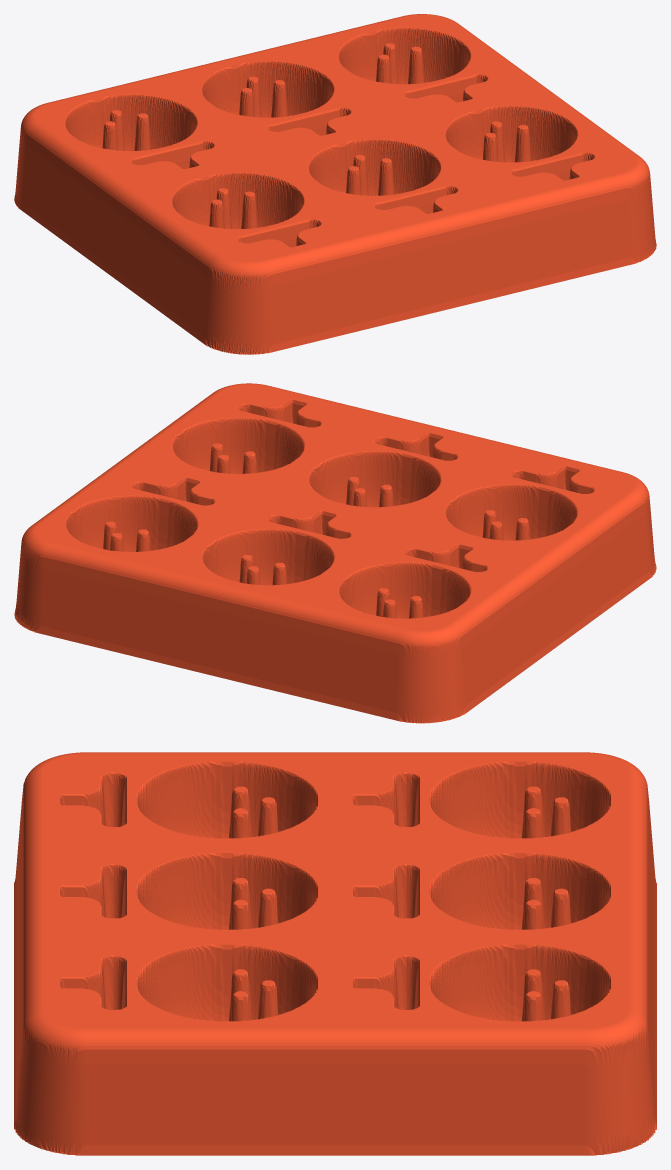
The model's file is mold.glb.
The picture shows the model from 3 angles, top to bottom: view 1: azimuth 30°, elevation 25°; view 2: azimuth 150°, elevation 25°; view 3: azimuth 270°, elevation 25°; orthographic projection. The views are drawn at different scales.
Parts seen in each view (by area): view 1: geometry_0; view 2: geometry_0; view 3: geometry_0.
Part boxes in pixels (x1,y1,x2,y2): geometry_0: (14, 14, 656, 354); geometry_0: (14, 383, 656, 723); geometry_0: (14, 752, 656, 1155).
Size of the model in its own units: 0.0888 by 0.0159 by 0.0808.
